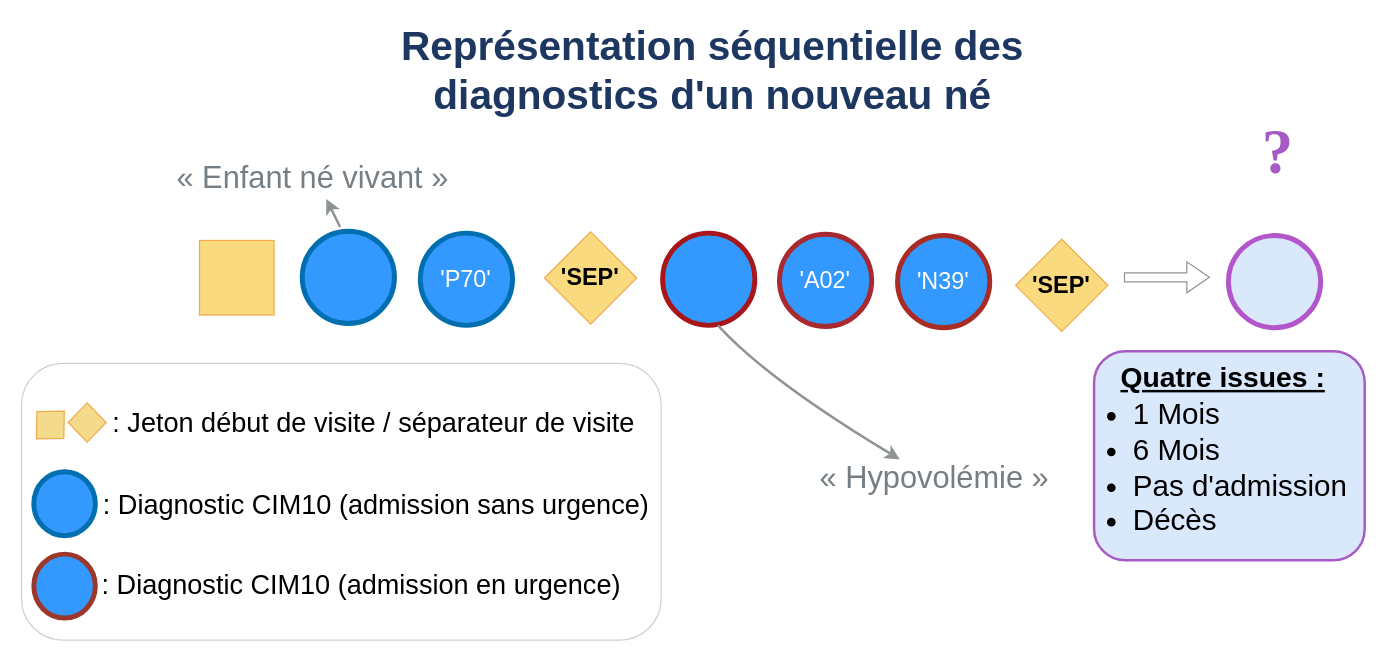
This 1392x672 diagram has some shape labels left out. The shapes that lost their labels are listed below. From the top down, each one's box as (x1, y1, x2, y2) in pixels, then its label:
(198, 239, 274, 315): 'CLS'
(299, 228, 396, 325): ' Z38 '
(660, 230, 757, 327): 'E86'
